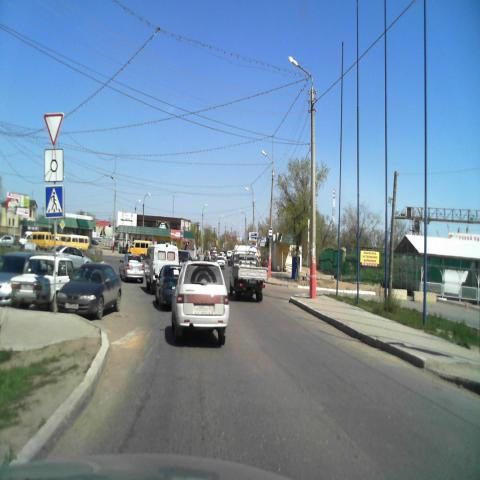8_13_1: (44, 150, 64, 183)
